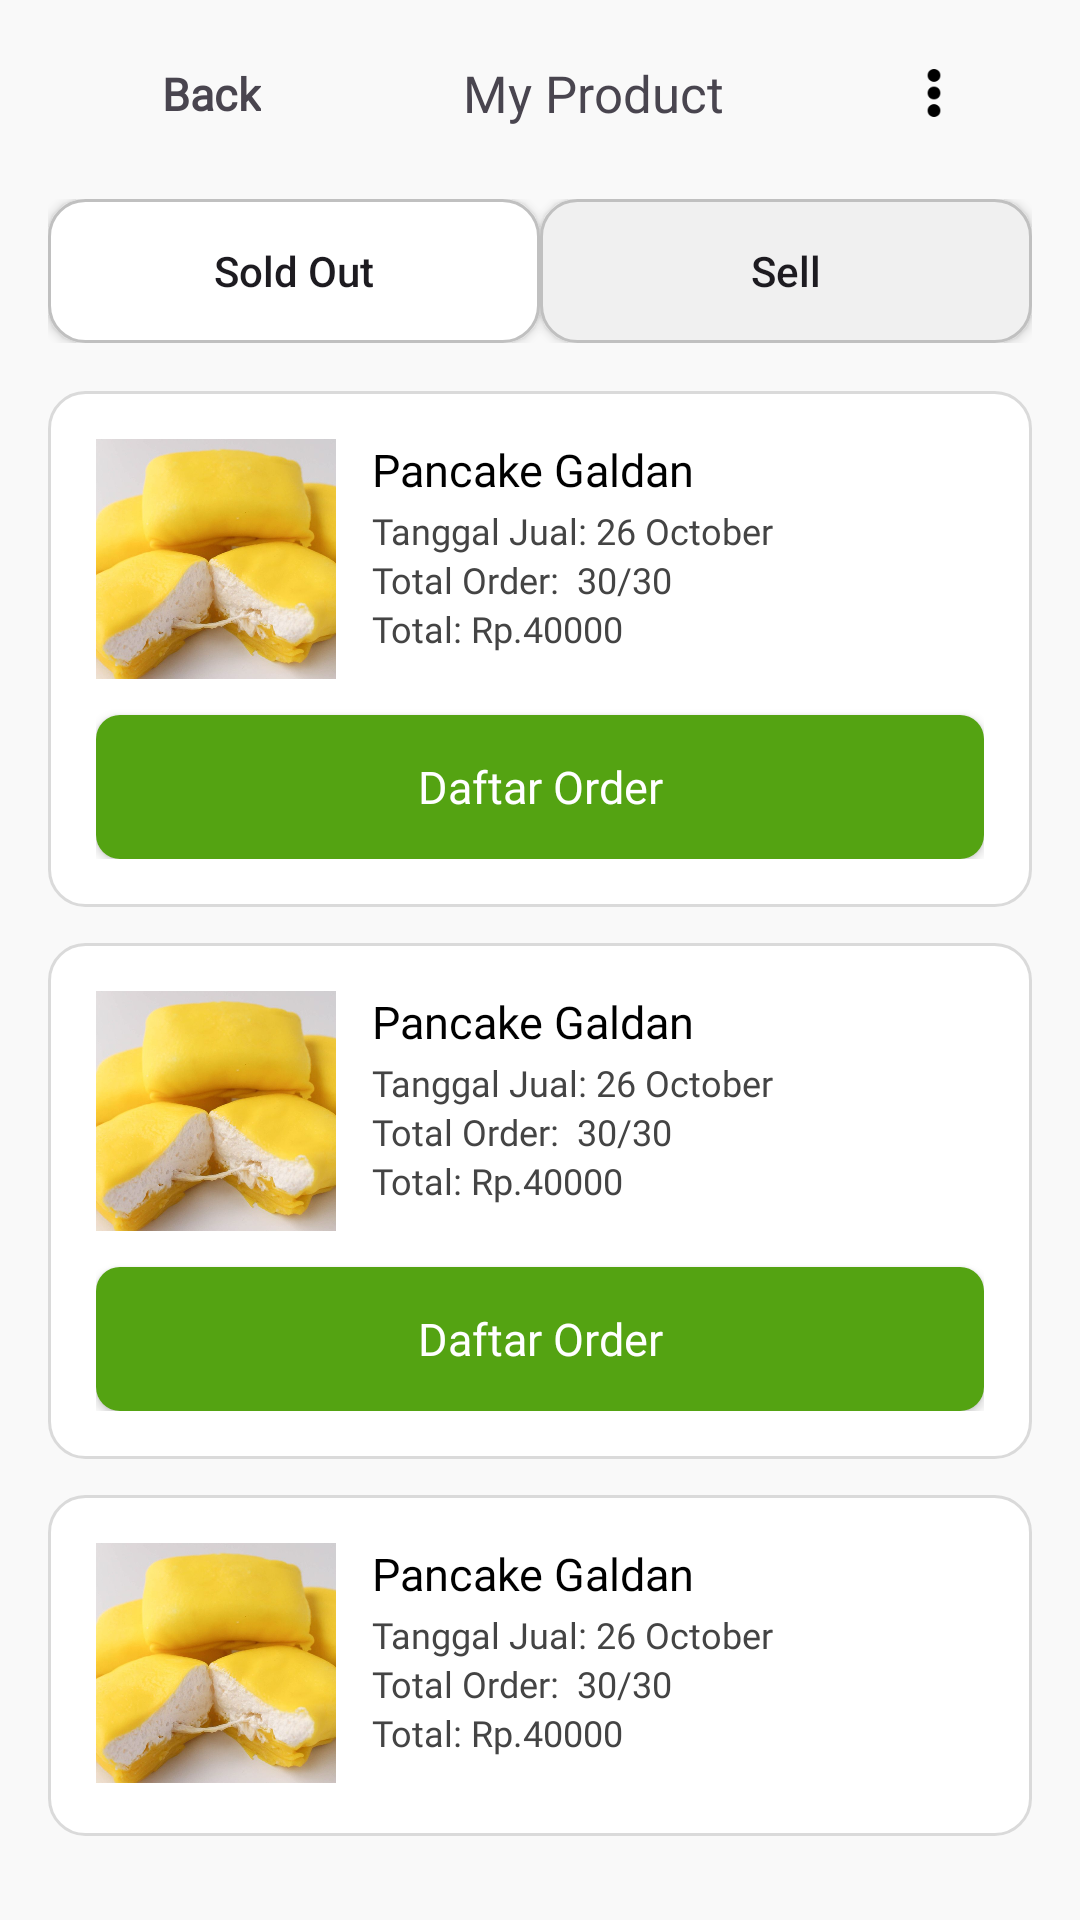

Where to tap for icons on this 1080×1920 app screen, as point (x, y):
titiktiga: point (934, 93)
